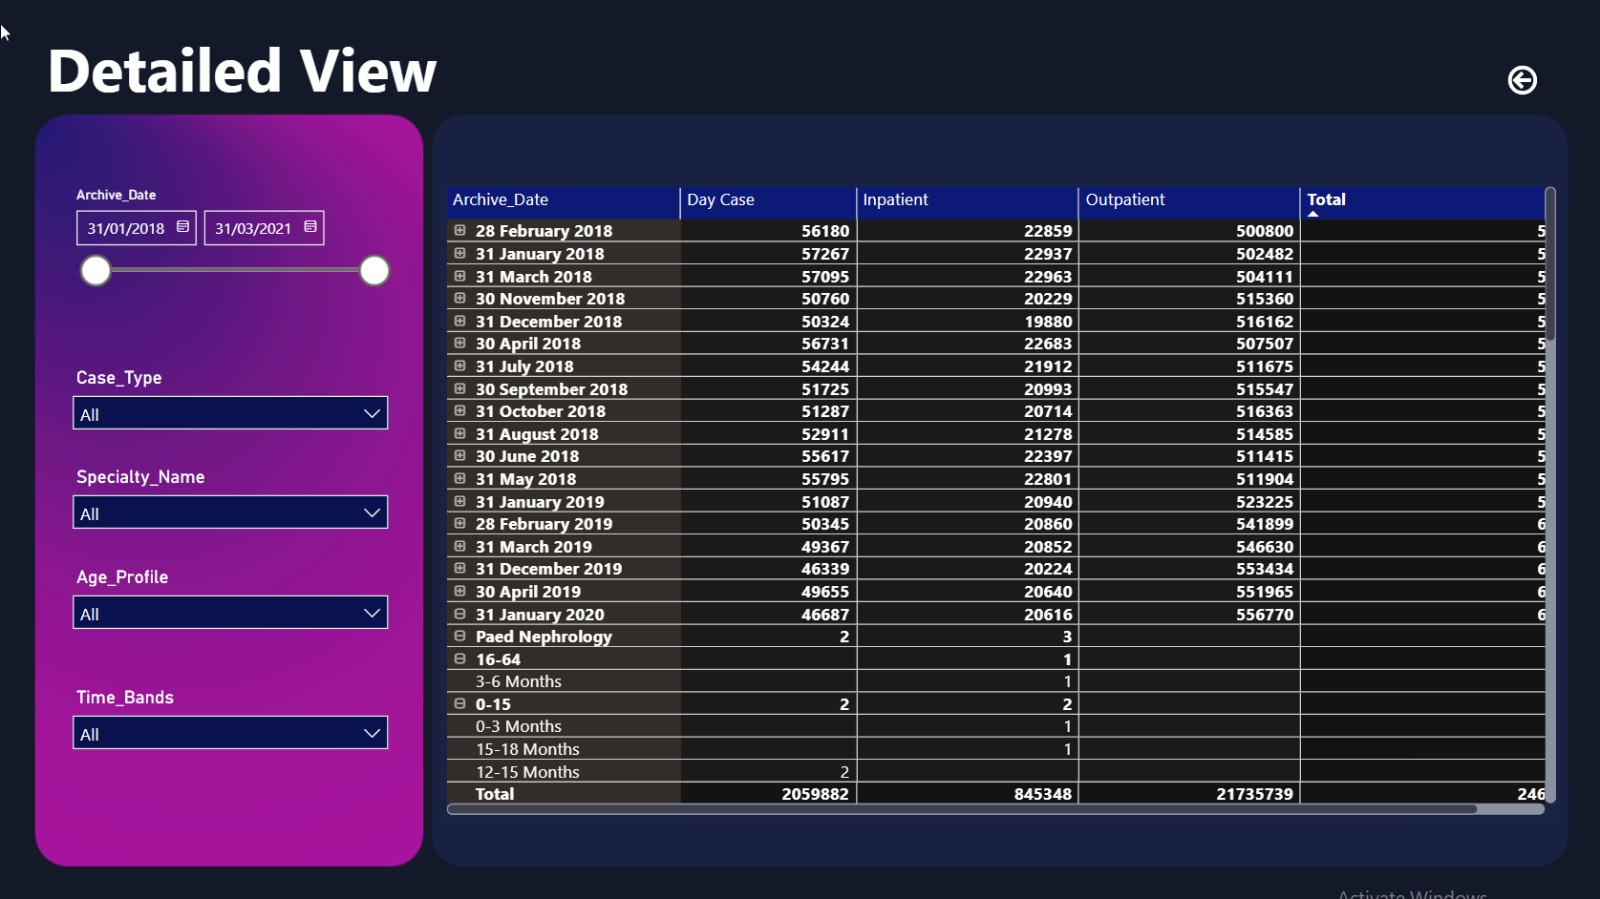

What the dashboard file says about the page in this screenshot:
{"tool":"powerbi","page":{"name":"Detail","canvas":[1280,720],"ordinal":1},"visuals":[{"type":"slicer","fields":{"Values":["All_Data.Archive_Date"]},"box":[48,144,272,96],"z":0},{"type":"slicer","fields":{"Values":["All_Data.Case_Type"]},"box":[48,288,272,64],"z":1000},{"type":"slicer","fields":{"Values":["All_Data.Specialty_Name"]},"box":[48,368,272,64],"z":2000},{"type":"textbox","box":[32,16,448,80],"z":3000},{"type":"slicer","fields":{"Values":["All_Data.Age_Profile"]},"box":[48,448,272,64],"z":4000},{"type":"slicer","fields":{"Values":["All_Data.Time_Bands"]},"box":[48,544,272,64],"z":5000},{"type":"pivotTable","fields":{"Rows":["All_Data.Archive_Date","All_Data.Specialty_Name","All_Data.Age_Profile","All_Data.Time_Bands"],"Columns":["All_Data.Case_Type"],"Values":["Sum(All_Data.Total)"]},"box":[352,144,896,512],"z":6000},{"type":"actionButton","box":[1200,48,32,32],"z":7000}]}

Visuals, with their boxes on the page's 1280x720 design canvas (x1, y1, x2, y2). These are canvas units, not pixel positions in the 1600x899 screenshot, which may show the page scaled, cropped or inside an application window:
slicer - All_Data.Archive_Date: box=[48, 144, 320, 240]
slicer - All_Data.Case_Type: box=[48, 288, 320, 352]
slicer - All_Data.Specialty_Name: box=[48, 368, 320, 432]
textbox: box=[32, 16, 480, 96]
slicer - All_Data.Age_Profile: box=[48, 448, 320, 512]
slicer - All_Data.Time_Bands: box=[48, 544, 320, 608]
pivotTable - All_Data.Archive_Date x All_Data.Specialty_Name: box=[352, 144, 1248, 656]
actionButton: box=[1200, 48, 1232, 80]
